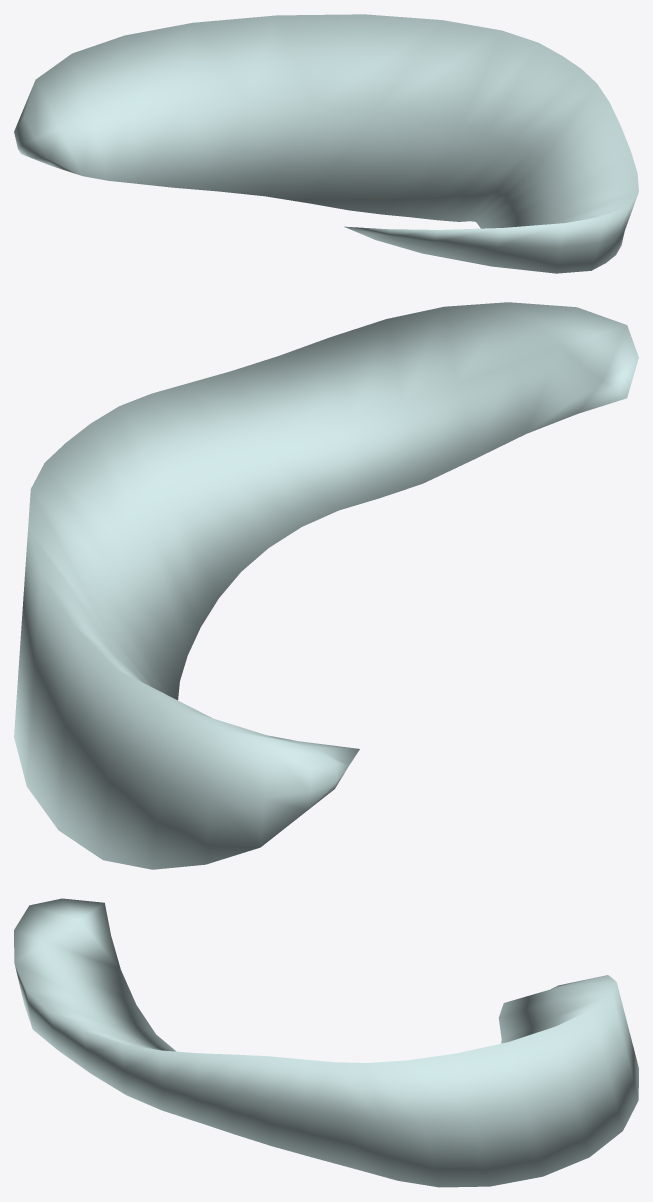
Rendered from Medial_meniscus.r_Generated_Mesh_From_X3D.047.glb.
3 views of the same model, one above another, from view 1: azimuth 30°, elevation 25°; view 2: azimuth 150°, elevation 25°; view 3: azimuth 270°, elevation 25° (orthographic). The views are drawn at different scales.
Parts seen in each view (by area): view 1: Medial_meniscus.r_Generated_Mesh_From_X3D.047; view 2: Medial_meniscus.r_Generated_Mesh_From_X3D.047; view 3: Medial_meniscus.r_Generated_Mesh_From_X3D.047.
Boxes of the visible parts, x1,y1,x2,y2 form: Medial_meniscus.r_Generated_Mesh_From_X3D.047: [14, 14, 638, 273]; Medial_meniscus.r_Generated_Mesh_From_X3D.047: [14, 302, 638, 869]; Medial_meniscus.r_Generated_Mesh_From_X3D.047: [14, 898, 638, 1187].
Size of the model in its own units: 0.0258 by 0.0149 by 0.0447.
